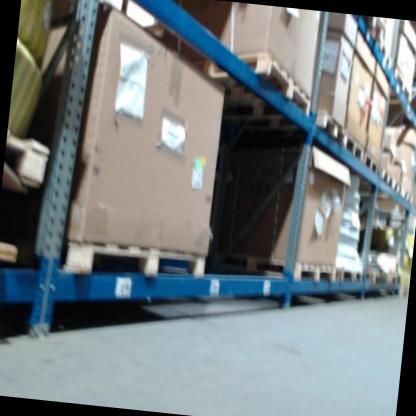pallet: (185, 41, 317, 122), (61, 236, 209, 288), (214, 247, 338, 287), (312, 104, 350, 147), (389, 66, 415, 102), (342, 131, 366, 165), (335, 265, 365, 286), (374, 37, 394, 68), (362, 149, 379, 175), (377, 167, 396, 189), (401, 189, 413, 204), (392, 180, 403, 196)
